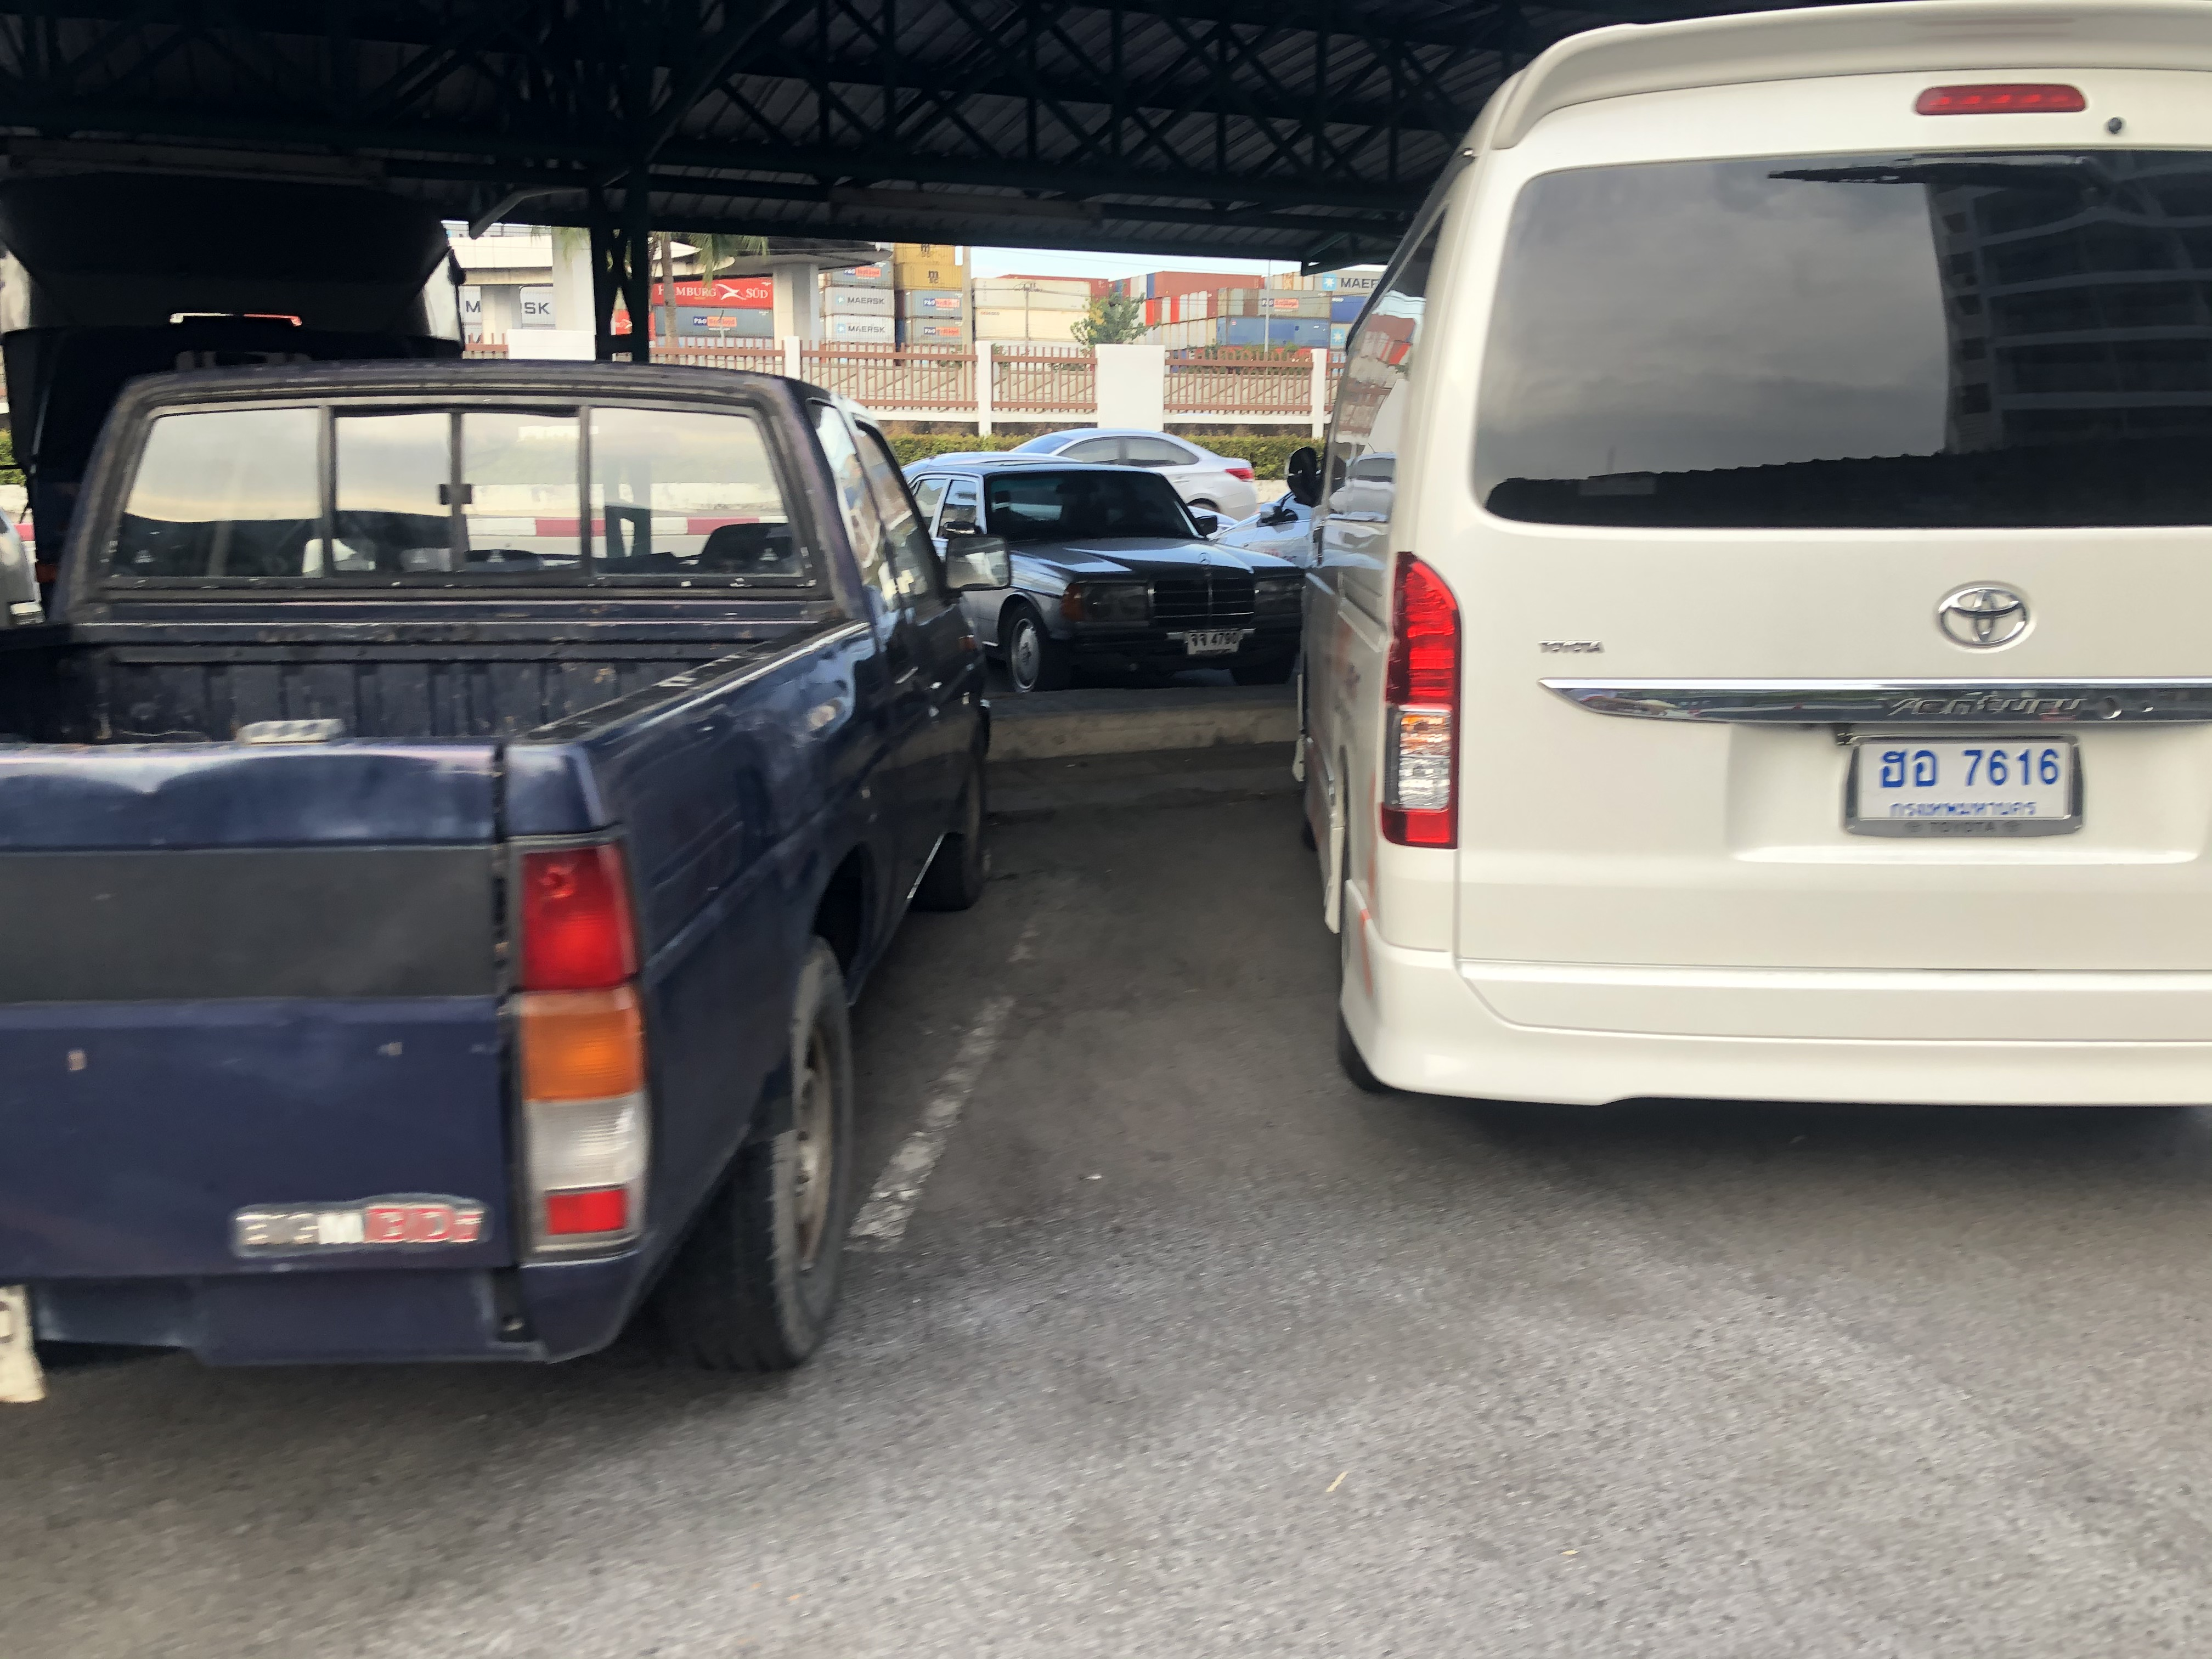in: (1862, 744, 2066, 817)
out: (1839, 734, 2087, 838)
